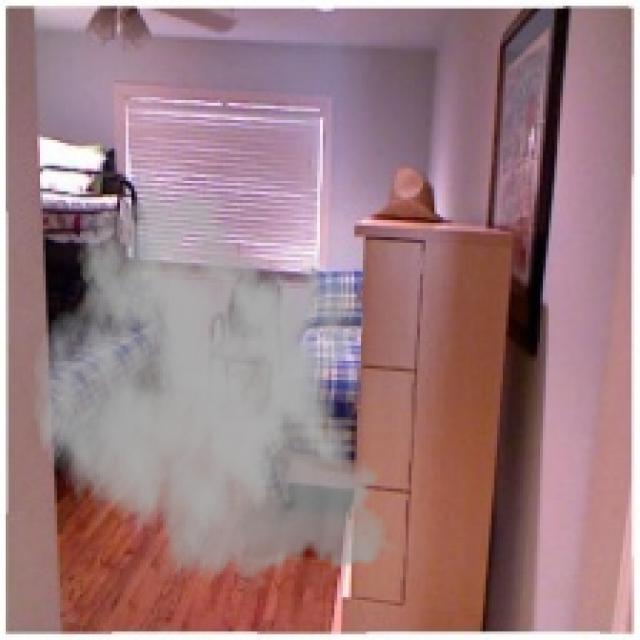smoke: (31, 172, 403, 594)
